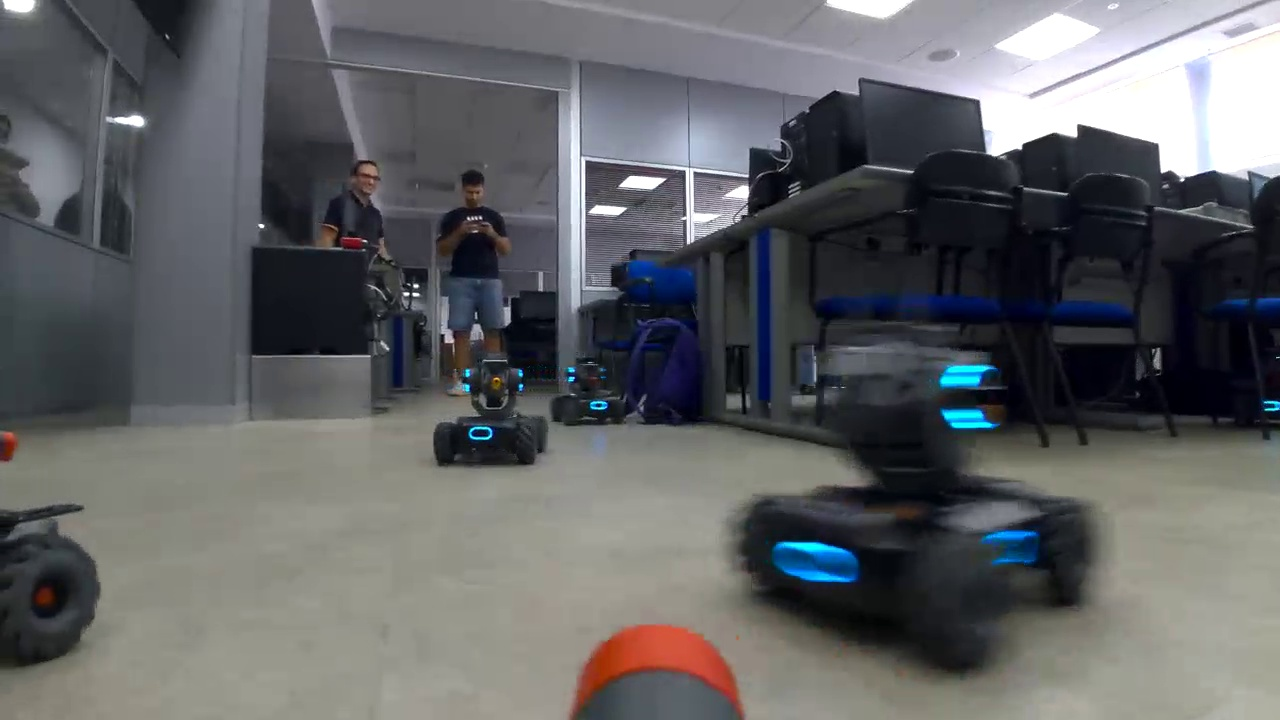robot: (725, 329, 1102, 680), (1, 415, 116, 680), (427, 348, 554, 467), (540, 351, 630, 429), (1252, 354, 1280, 436)
